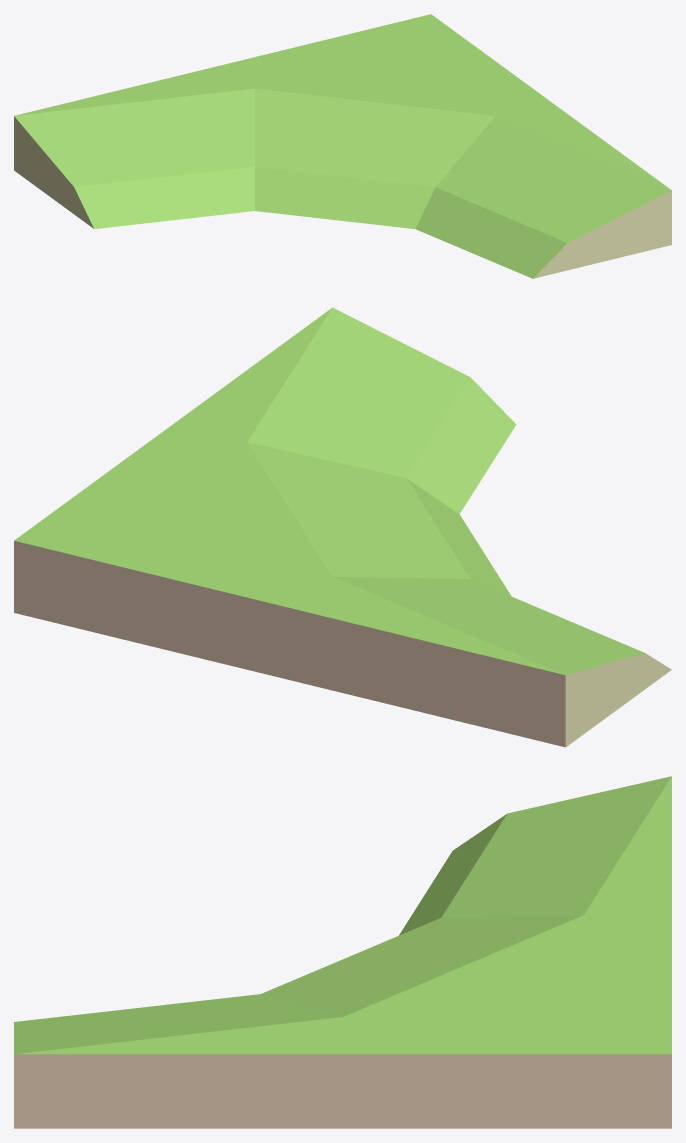
Rendered from Grass_Carpet_Curve_Inner_2x2.glb.
3 renders of one model, top to bottom at view 1: azimuth 30°, elevation 25°; view 2: azimuth 150°, elevation 25°; view 3: azimuth 270°, elevation 25°, orthographic. The views are drawn at different scales.
Visible parts, largest first — view 1: Grass_Carpet_Curve_Inner_2x2; view 2: Grass_Carpet_Curve_Inner_2x2; view 3: Grass_Carpet_Curve_Inner_2x2.
Part boxes in pixels (x1=…): Grass_Carpet_Curve_Inner_2x2: x1=14, y1=14, x2=671, y2=278; Grass_Carpet_Curve_Inner_2x2: x1=14, y1=307, x2=671, y2=747; Grass_Carpet_Curve_Inner_2x2: x1=14, y1=776, x2=671, y2=1128.
Size of the model in its own units: 200 by 25 by 200.
